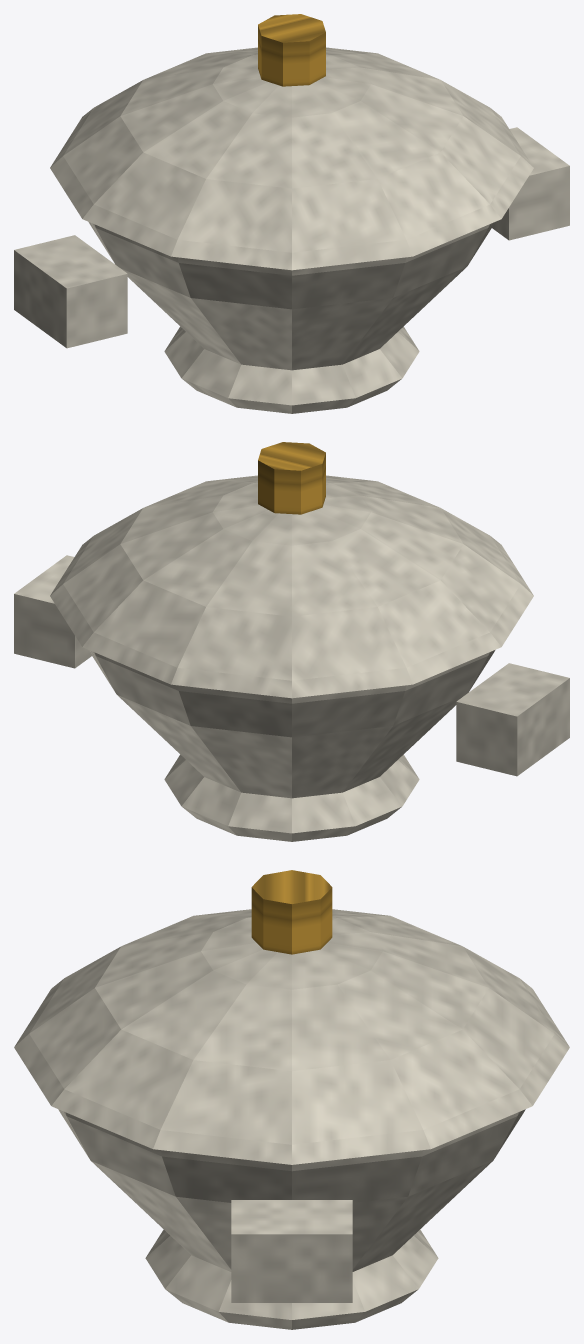
File: soup_pot.fbx
3 views of the same model, one above another, from view 1: azimuth 30°, elevation 25°; view 2: azimuth 150°, elevation 25°; view 3: azimuth 270°, elevation 25° (orthographic). The views are drawn at different scales.
Visible parts, largest first — view 1: soup_pot; view 2: soup_pot; view 3: soup_pot.
Part boxes in pixels (bbox=[...]): soup_pot: bbox=[14, 14, 569, 413]; soup_pot: bbox=[14, 442, 569, 841]; soup_pot: bbox=[14, 870, 569, 1329].
Bounding box in the file's own units: 26.4 × 17 × 22.
